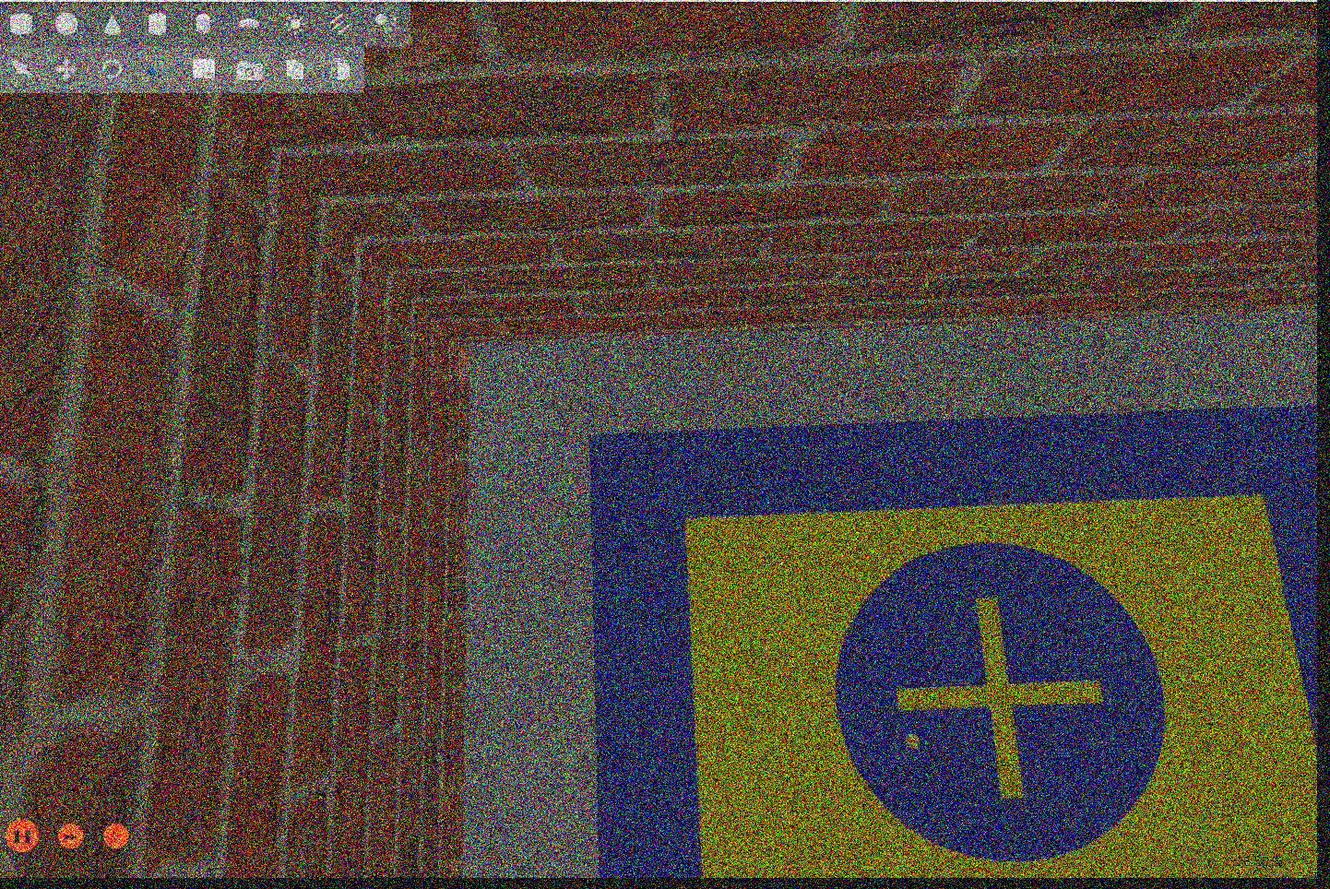large_base: (588, 409, 1319, 883)
